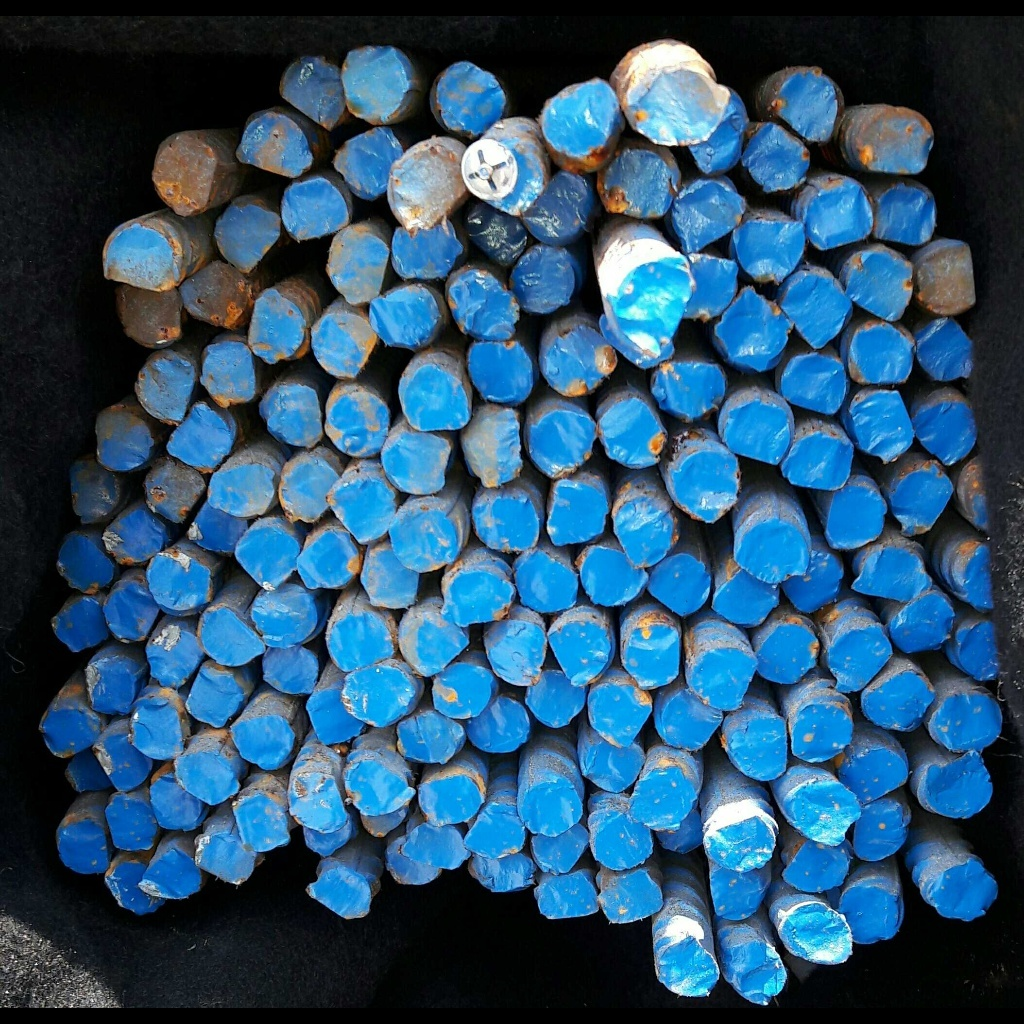dipstick: (625, 68, 725, 144), (615, 262, 690, 344), (389, 144, 461, 229), (716, 289, 790, 370), (542, 80, 620, 154), (674, 178, 745, 253), (152, 134, 216, 216), (690, 82, 746, 175), (523, 172, 594, 244), (544, 325, 616, 395), (236, 113, 313, 178), (783, 275, 851, 348), (859, 106, 933, 173), (596, 150, 671, 216), (508, 244, 576, 316), (280, 56, 345, 131), (846, 251, 913, 323), (671, 451, 739, 521), (336, 127, 403, 198), (599, 398, 666, 469), (438, 63, 504, 134), (805, 182, 874, 249), (452, 271, 518, 341), (342, 46, 405, 119), (465, 405, 521, 487), (105, 225, 176, 289), (112, 283, 182, 347), (737, 520, 808, 583), (613, 495, 675, 567), (776, 70, 838, 142), (327, 230, 388, 303), (732, 220, 806, 280), (401, 610, 468, 676), (166, 404, 231, 472), (183, 262, 252, 326), (781, 901, 850, 965), (915, 243, 976, 315), (530, 411, 596, 477), (217, 204, 281, 272), (382, 431, 451, 494), (852, 392, 913, 463), (651, 361, 725, 419), (403, 365, 469, 430), (372, 284, 439, 348), (389, 508, 458, 570), (690, 647, 755, 712), (251, 583, 318, 646), (548, 617, 611, 684), (745, 124, 808, 191), (197, 605, 266, 666), (725, 400, 789, 465), (329, 478, 395, 541), (343, 665, 411, 726), (864, 670, 933, 730), (259, 384, 323, 448), (325, 392, 389, 456), (794, 781, 858, 845), (235, 525, 298, 590), (313, 313, 376, 378), (483, 620, 546, 685), (858, 548, 931, 604), (467, 340, 531, 403), (782, 433, 854, 489), (926, 755, 992, 816), (281, 179, 348, 239), (782, 546, 842, 613), (931, 694, 1002, 750), (146, 554, 210, 616), (647, 553, 710, 615), (781, 354, 846, 414), (250, 291, 305, 361), (703, 816, 774, 870), (136, 354, 194, 420), (581, 546, 647, 604), (590, 687, 652, 748), (915, 403, 977, 464), (328, 613, 393, 671), (144, 461, 205, 522), (515, 552, 577, 612), (891, 471, 953, 531), (829, 627, 891, 687), (728, 716, 787, 779), (756, 625, 819, 684), (826, 485, 885, 548), (393, 222, 458, 279), (547, 482, 607, 543), (875, 185, 935, 246), (791, 704, 853, 763), (890, 593, 953, 651), (849, 326, 913, 383), (662, 689, 722, 749), (289, 772, 347, 834), (282, 459, 339, 522), (934, 863, 997, 920), (838, 748, 907, 800), (713, 570, 778, 625), (445, 570, 512, 623), (473, 497, 539, 550), (93, 733, 153, 791), (186, 665, 242, 727), (345, 758, 407, 814), (201, 341, 254, 406), (229, 716, 294, 769), (684, 254, 737, 319), (526, 670, 586, 727), (592, 811, 652, 868), (522, 780, 583, 836), (128, 696, 183, 758), (296, 531, 358, 586), (466, 697, 529, 751), (209, 463, 274, 515), (916, 319, 974, 377), (632, 775, 691, 832), (840, 885, 899, 942), (95, 410, 151, 470), (782, 840, 849, 890), (732, 942, 786, 1004), (175, 753, 239, 805), (399, 711, 464, 762), (57, 535, 115, 592), (361, 548, 417, 607), (599, 870, 662, 922), (232, 793, 289, 850), (432, 662, 490, 718), (104, 581, 159, 640), (854, 801, 909, 860), (104, 861, 165, 914), (51, 597, 110, 651), (105, 510, 165, 563), (418, 775, 481, 825), (146, 629, 202, 685), (661, 939, 717, 995), (585, 741, 644, 794), (625, 626, 678, 685), (307, 690, 363, 745), (151, 773, 208, 827), (69, 463, 121, 522), (41, 707, 100, 758), (195, 833, 254, 884), (529, 825, 590, 874), (709, 867, 766, 919), (312, 868, 370, 919), (139, 849, 199, 897), (86, 657, 134, 715), (535, 874, 598, 918), (57, 821, 110, 873), (106, 796, 156, 850), (264, 645, 318, 695), (386, 836, 440, 884), (468, 853, 535, 891), (408, 825, 464, 870), (464, 816, 525, 857), (958, 622, 999, 680), (65, 755, 114, 790)
